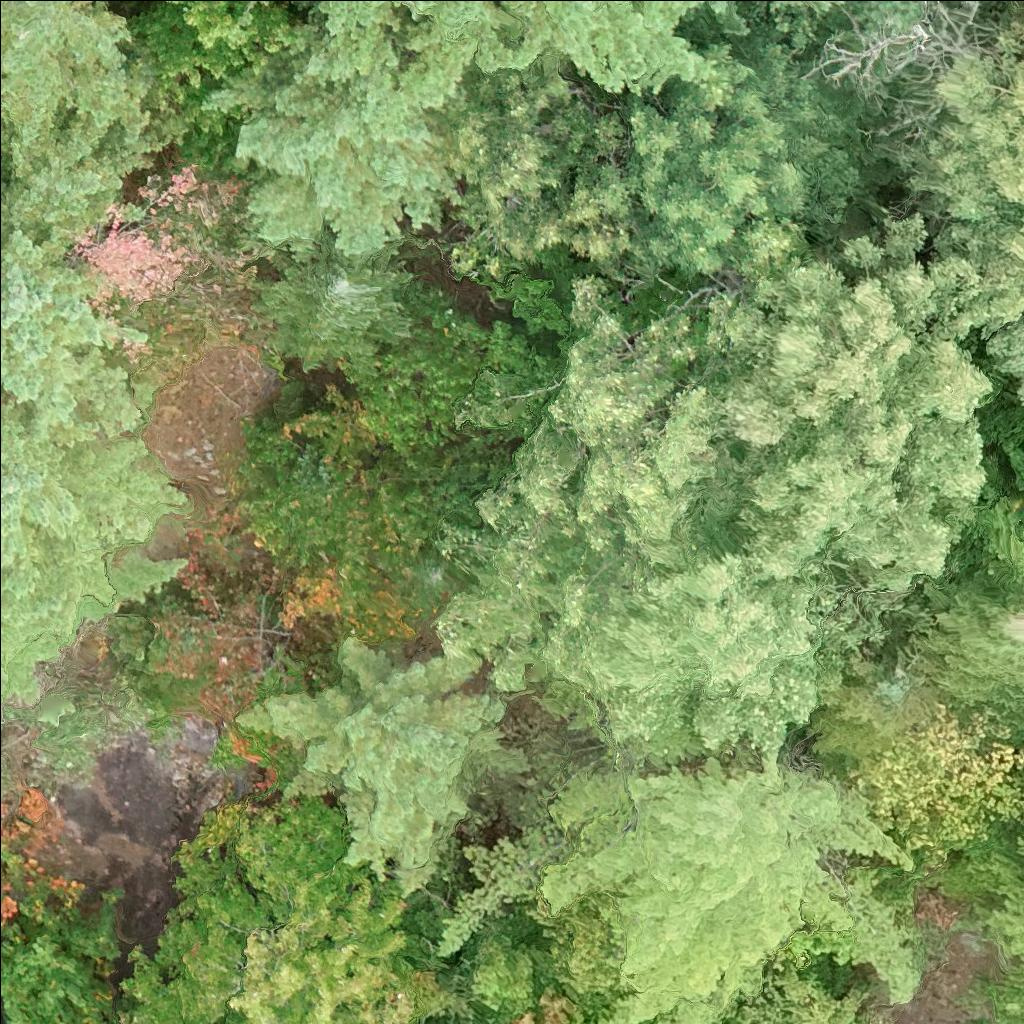crown: (443, 277, 818, 689), (437, 721, 924, 1023), (709, 212, 1023, 592), (118, 783, 445, 1023), (242, 627, 525, 892), (240, 385, 520, 639), (541, 550, 825, 774), (239, 0, 482, 251), (415, 48, 667, 279), (0, 399, 185, 699), (628, 45, 871, 268), (0, 229, 148, 572), (342, 293, 535, 451), (915, 29, 1023, 277), (851, 705, 1023, 859), (157, 530, 281, 734), (250, 221, 413, 375), (0, 103, 150, 256), (467, 0, 707, 93), (0, 0, 146, 147), (66, 165, 205, 314), (804, 0, 989, 92), (201, 7, 337, 128), (926, 573, 1023, 731), (0, 895, 117, 1023), (129, 0, 309, 76), (524, 898, 630, 1014), (735, 962, 865, 1023), (977, 498, 1023, 573), (401, 0, 488, 34), (316, 0, 391, 34), (990, 888, 1023, 962), (993, 962, 1023, 1023), (994, 314, 1023, 368), (564, 995, 613, 1023), (539, 988, 574, 1023), (710, 0, 742, 31), (779, 0, 839, 11), (1009, 445, 1023, 485), (509, 1008, 535, 1023), (641, 1016, 665, 1023), (245, 0, 264, 5)
